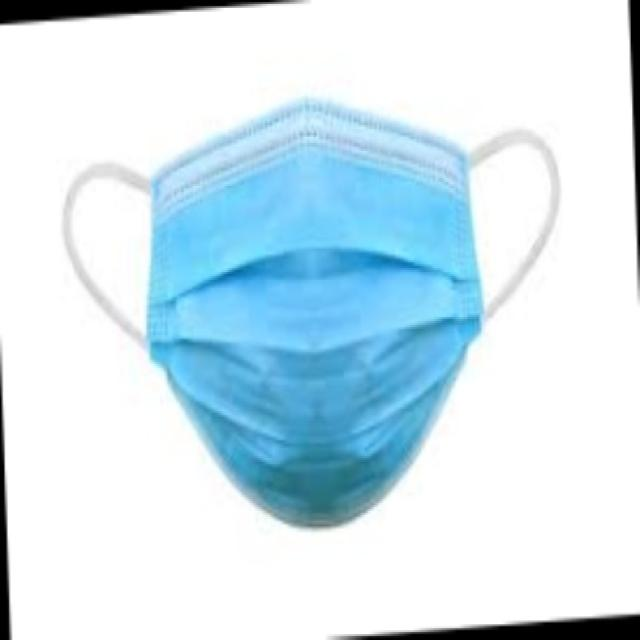B3: (64, 100, 559, 525)
